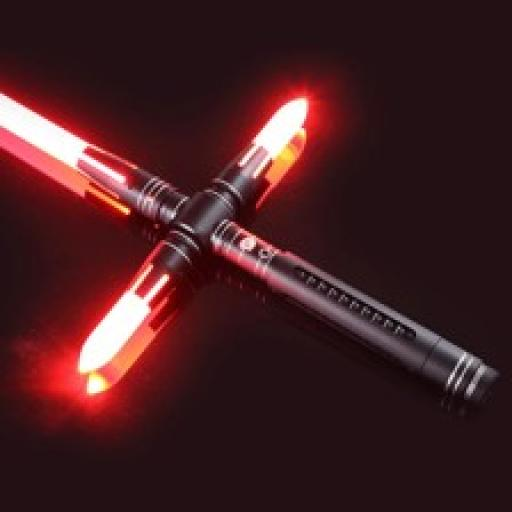lightsaber: (2, 91, 498, 424)
